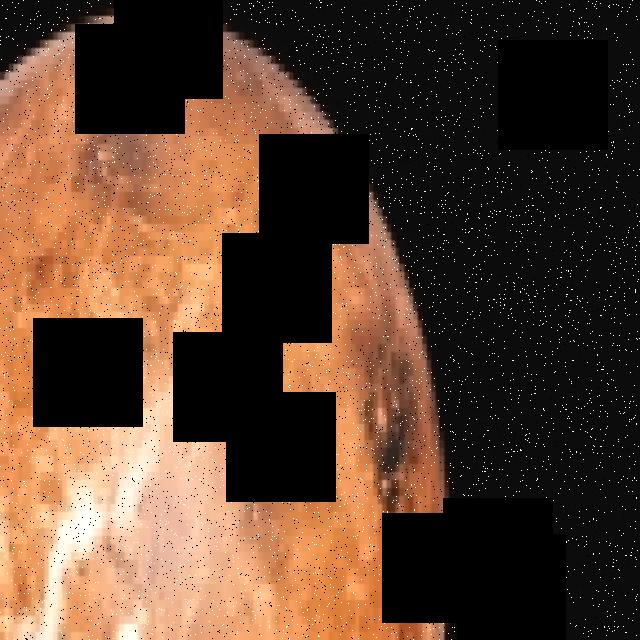Venus: (0, 8, 454, 640)
